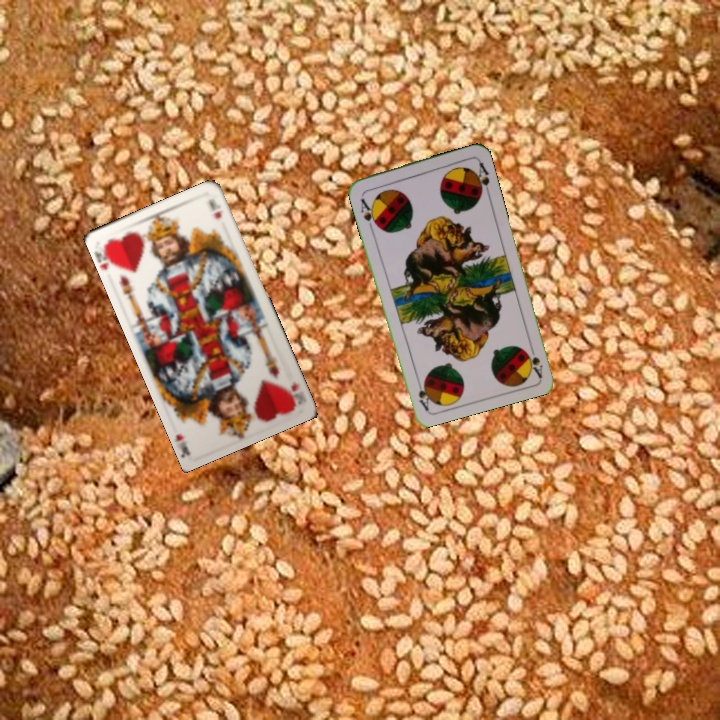HK: (92, 240, 120, 273), (287, 378, 305, 406)
SA: (521, 339, 546, 379), (356, 194, 381, 231)
